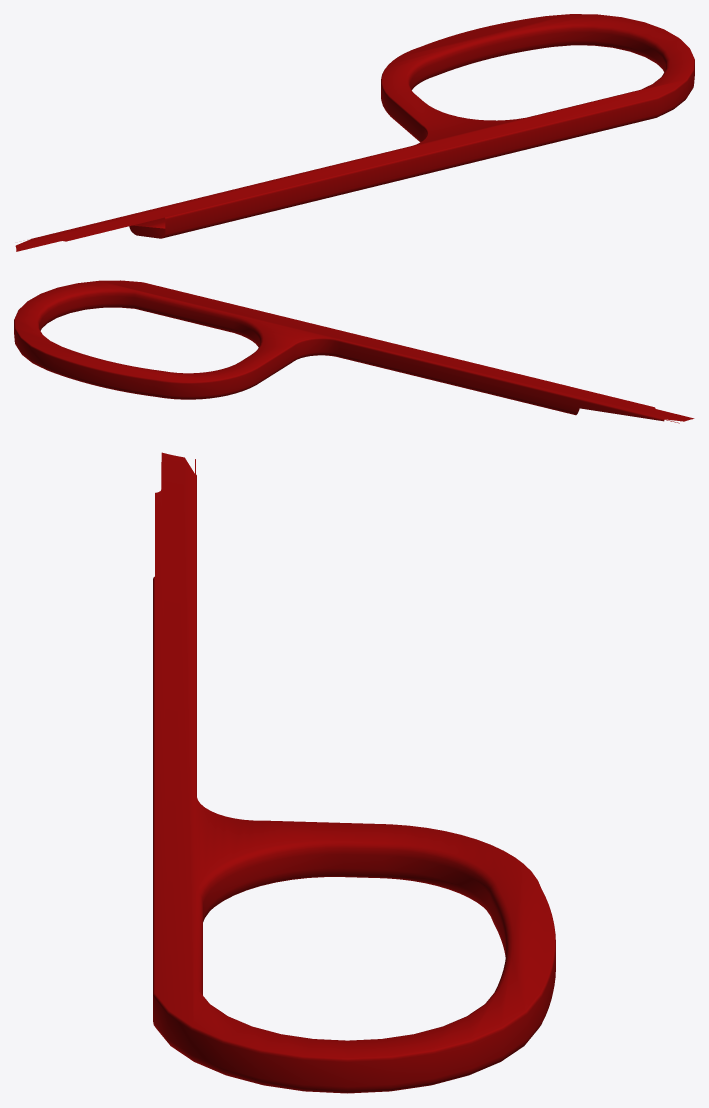
3 views of the same model, one above another, from view 1: azimuth 30°, elevation 25°; view 2: azimuth 150°, elevation 25°; view 3: azimuth 270°, elevation 25° (orthographic). The views are drawn at different scales.
Size of the model in its own units: 1.2 by 0.034 by 0.3362.
